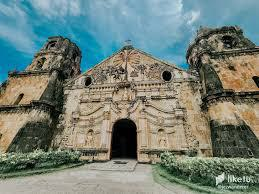Miagao Church: (4, 33, 259, 165)
